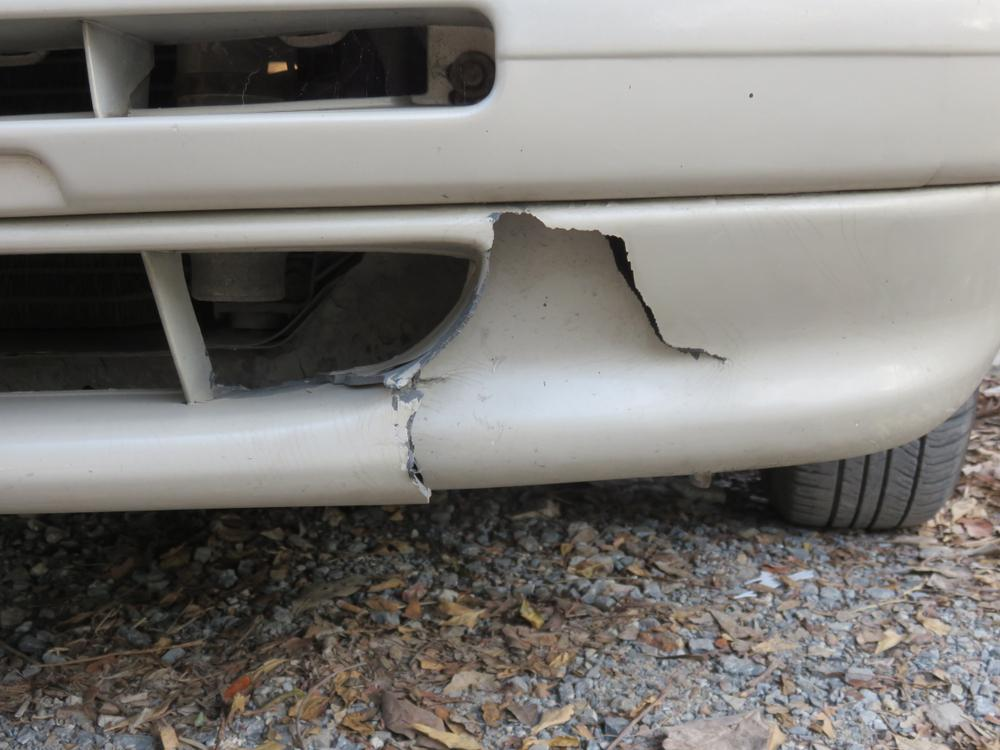crack: (491, 205, 731, 368), (403, 370, 431, 493)
